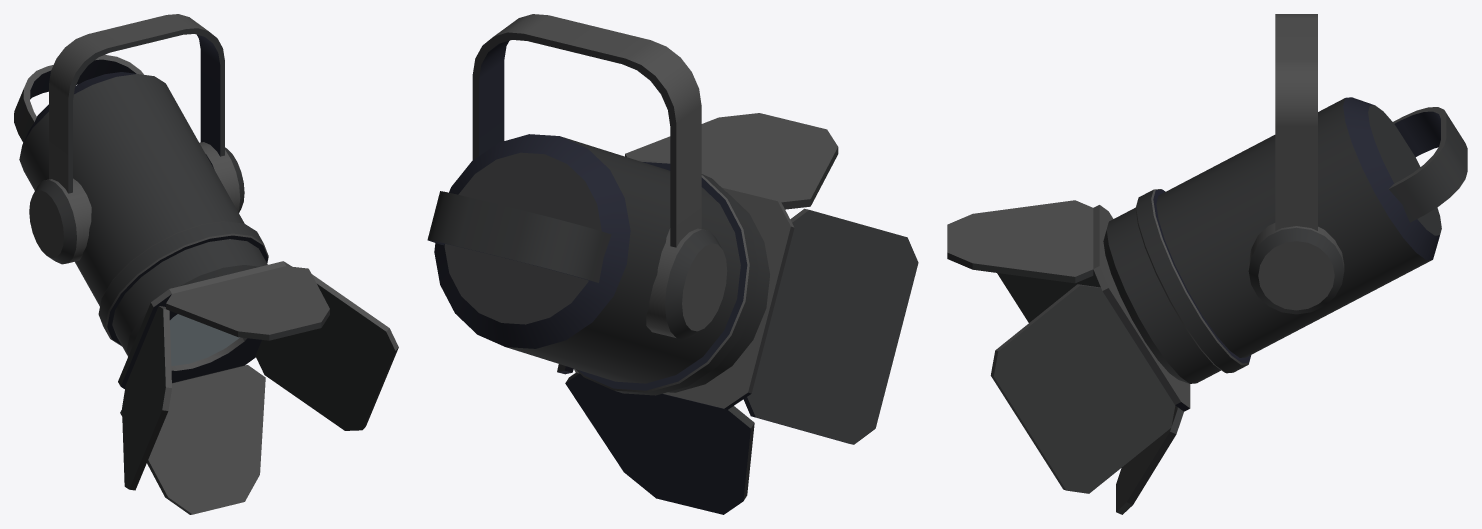
The model's file is StageLight.fbx.
3 renders of one model, left to right at view 1: azimuth 30°, elevation 25°; view 2: azimuth 150°, elevation 25°; view 3: azimuth 270°, elevation 25°, orthographic. The views are drawn at different scales.
Parts seen in each view (by area): view 1: StagLightBody, BlinderBot, BlinderLeft, StageLightHandle, BlinderTop, BlinderRight, BlinderBase; view 2: StagLightBody, BlinderRight, BlinderBot, StageLightHandle, BlinderTop, BlinderBase; view 3: StagLightBody, BlinderLeft, BlinderTop, StageLightHandle, BlinderBase, BlinderBot, BlinderRight.
Part boxes in pixels (x1,y1,x2,y2): StagLightBody: (14,55,268,365); BlinderBot: (120,365,265,514); BlinderLeft: (255,274,398,430); StageLightHandle: (49,14,224,193); BlinderTop: (166,266,329,340); BlinderRight: (122,306,171,490); BlinderBase: (118,261,291,388); StagLightBody: (427,134,769,395); BlinderRight: (743,208,918,444); BlinderBot: (565,372,754,514); StageLightHandle: (472,14,701,247); BlinderTop: (625,113,838,209); BlinderBase: (574,187,794,409); StagLightBody: (1103,97,1467,383); BlinderLeft: (990,284,1175,493); BlinderTop: (947,200,1093,283); StageLightHandle: (1275,14,1317,230); BlinderBase: (1093,205,1190,411); BlinderBot: (1116,405,1183,514); BlinderRight: (997,270,1100,322).
Bounding box in the file's own units: 53.49 × 89.52 × 91.43.
